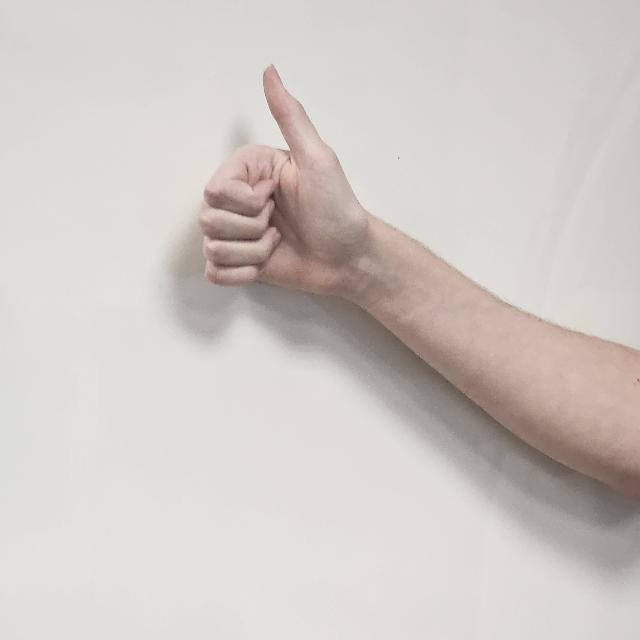Start: (199, 63, 379, 330)
